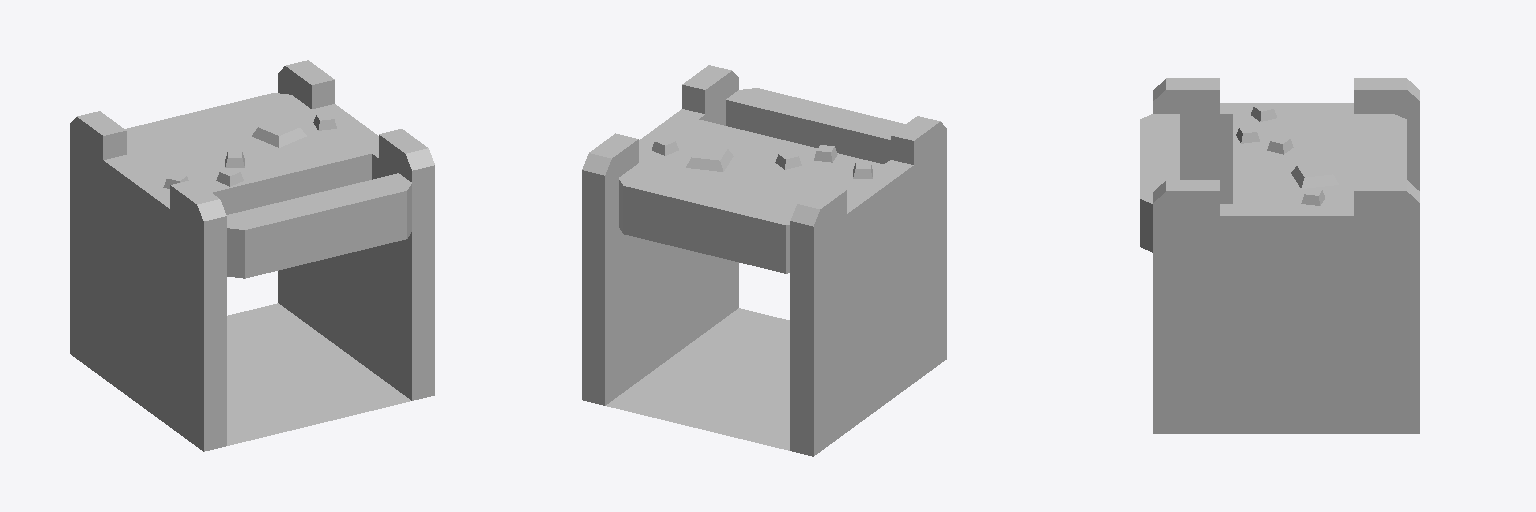
The model's file is wall-opening.obj.
3 renders of one model, left to right at view 1: azimuth 30°, elevation 25°; view 2: azimuth 150°, elevation 25°; view 3: azimuth 270°, elevation 25°, orthographic.
Parts seen in each view (by area): view 1: wall-opening; view 2: wall-opening; view 3: wall-opening.
Boxes of the visible parts, <box> form: wall-opening: <box>70,60,434,451</box>; wall-opening: <box>582,65,946,456</box>; wall-opening: <box>1140,78,1419,433</box>.
Size of the model in its own units: 1 by 1 by 1.05.